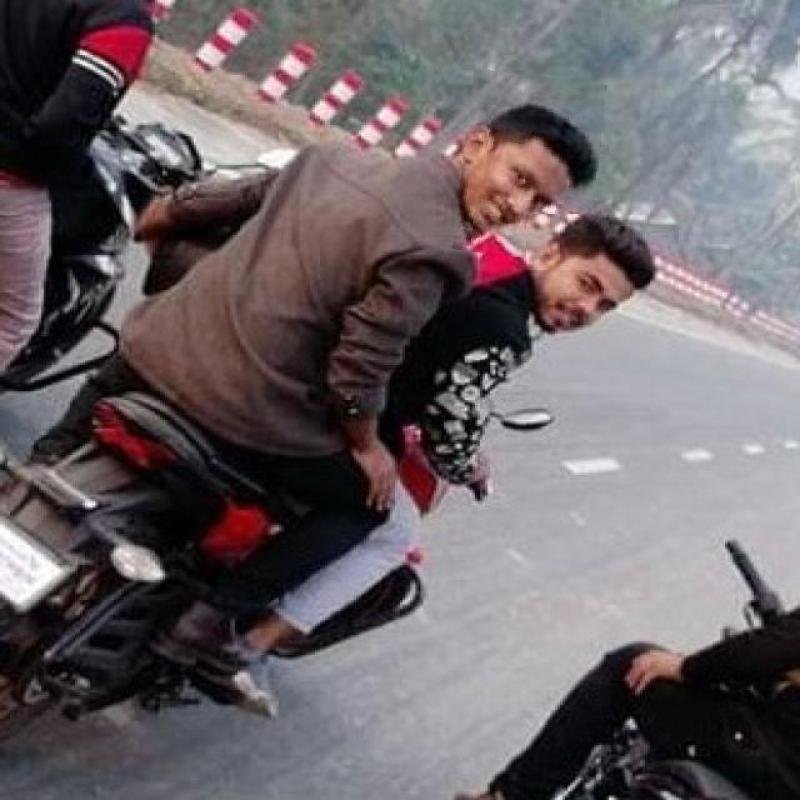nohelmet: (457, 72, 602, 262), (526, 214, 664, 355)
